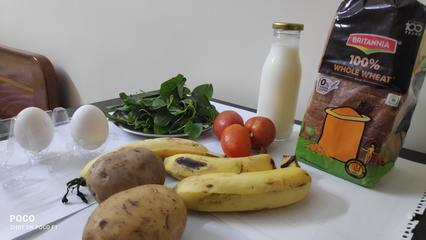banana: (170, 143, 314, 207)
bread: (295, 5, 426, 158)
eggs: (9, 104, 101, 152)
milk: (260, 11, 306, 135)
potato: (66, 175, 191, 237), (77, 144, 164, 187)
spinach: (130, 97, 201, 129)
tomato: (211, 112, 287, 155)
